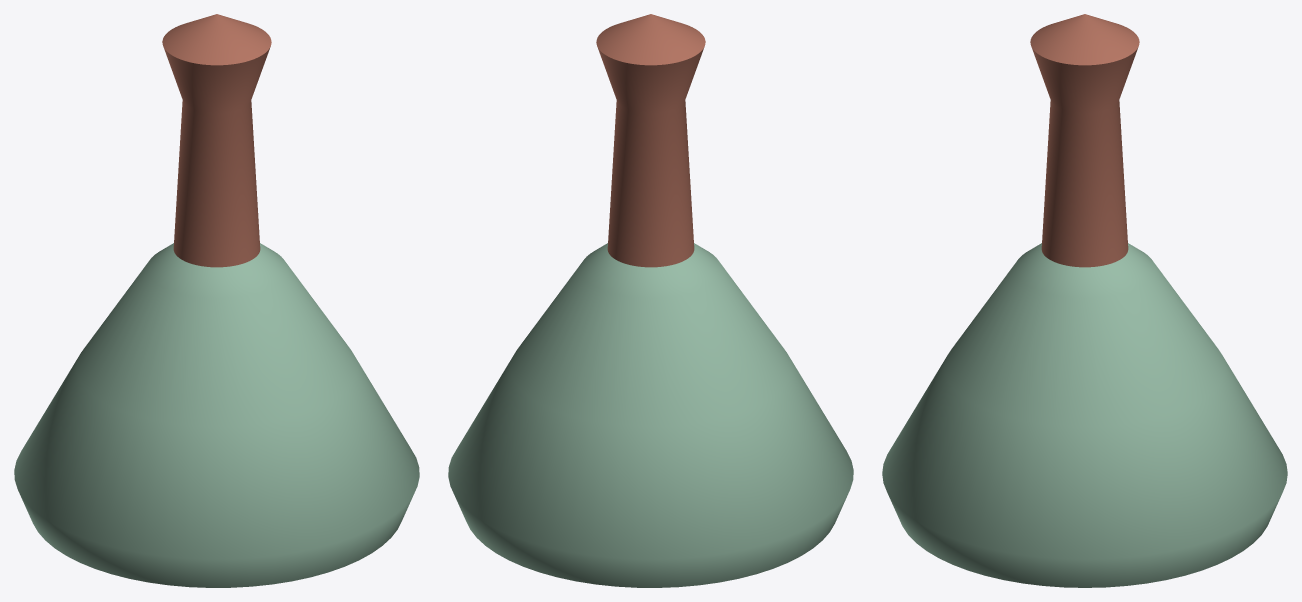
File: enchanted-harp-garden-and-music-sanctuary-hand-bell-5362d6cd__30419.glb
3 views of the same model, side by side, from view 1: azimuth 30°, elevation 25°; view 2: azimuth 150°, elevation 25°; view 3: azimuth 270°, elevation 25° (orthographic).
Parts seen in each view (by area): view 1: hand-bell; view 2: hand-bell; view 3: hand-bell.
Boxes of the visible parts, bbox=[...] form: hand-bell: bbox=[14, 14, 419, 587]; hand-bell: bbox=[448, 14, 853, 587]; hand-bell: bbox=[882, 14, 1287, 587].
Size of the model in its own units: 0.26 by 0.35 by 0.26.
